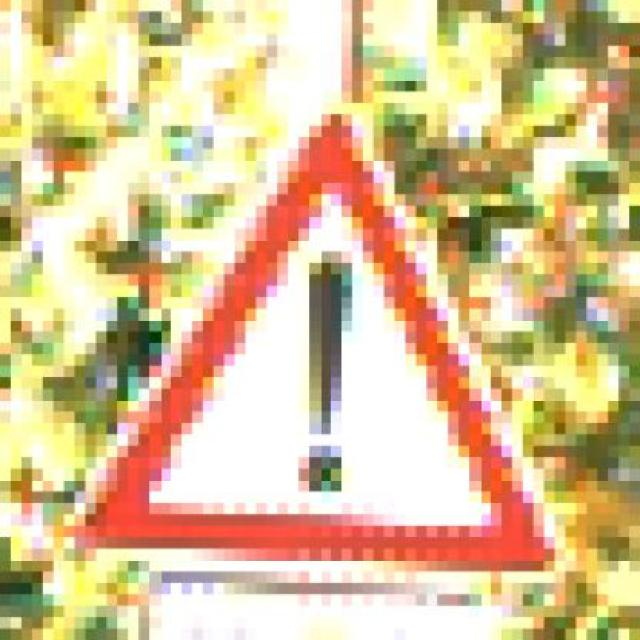Attention Please-: (64, 80, 544, 583)
